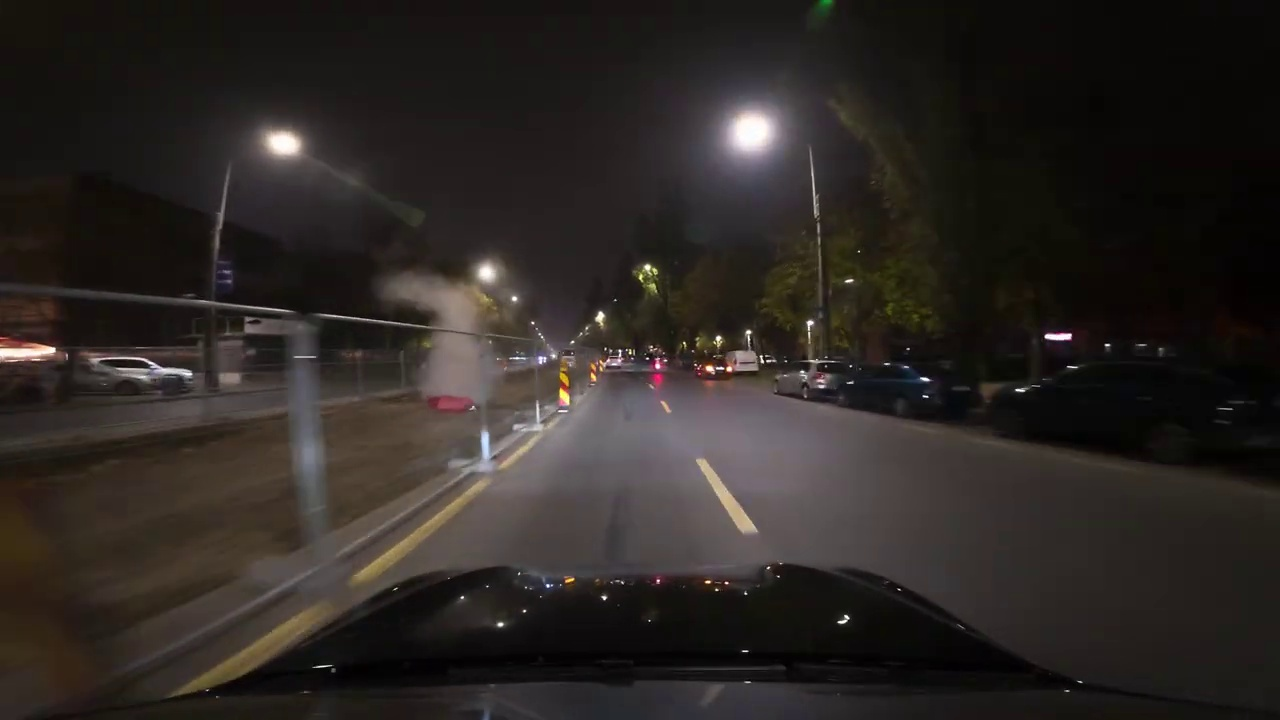acesa: (733, 114, 770, 150), (261, 128, 302, 160), (474, 258, 502, 285)
